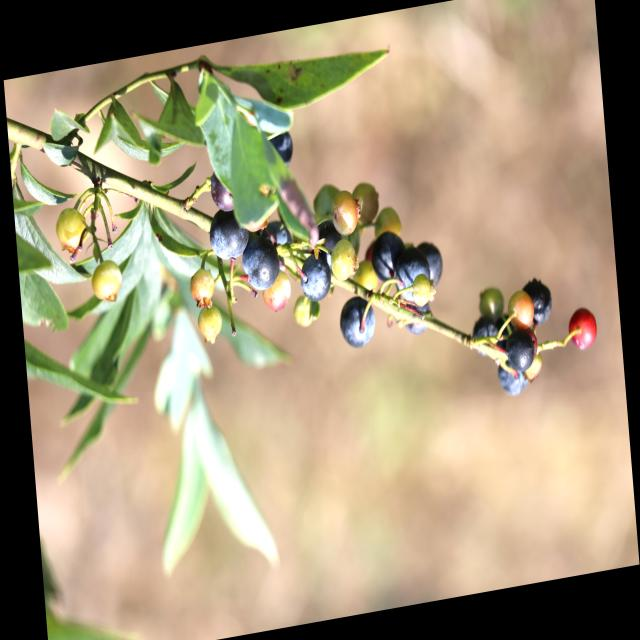blueberry: (238, 230, 283, 295), (207, 203, 253, 259), (390, 243, 429, 309), (336, 294, 378, 355), (519, 269, 556, 330), (370, 229, 406, 285), (418, 225, 448, 286), (468, 312, 503, 361), (298, 254, 332, 303), (315, 218, 345, 271), (504, 328, 536, 375), (403, 297, 434, 341), (496, 361, 530, 399), (210, 168, 236, 213), (271, 130, 298, 171)
blueberry-halfripe: (259, 269, 294, 316), (568, 306, 599, 352)
blueberry-unripe: (52, 202, 90, 255), (88, 258, 126, 306), (352, 176, 383, 229), (329, 188, 361, 239), (328, 237, 360, 283), (507, 286, 538, 332), (373, 202, 405, 243), (312, 179, 340, 224), (478, 283, 508, 324), (187, 268, 217, 307), (197, 302, 225, 343), (292, 292, 318, 330), (410, 274, 434, 308)
